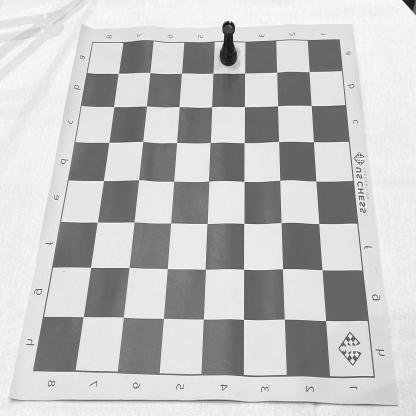black-rook: (219, 21, 238, 66)
